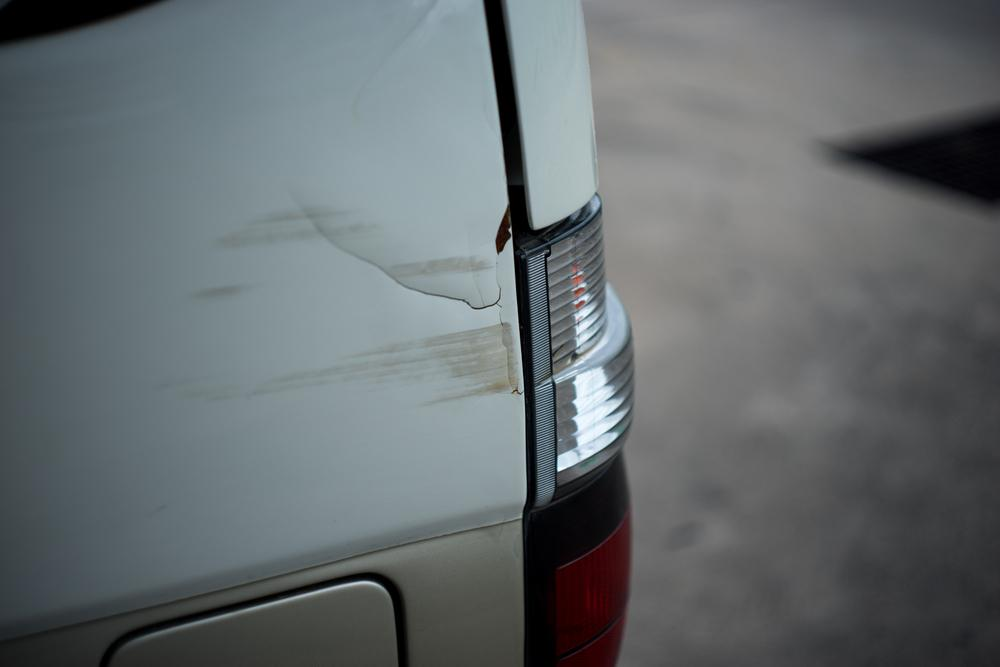crack: (330, 239, 504, 312)
scratch: (155, 203, 523, 416), (388, 251, 493, 275)
